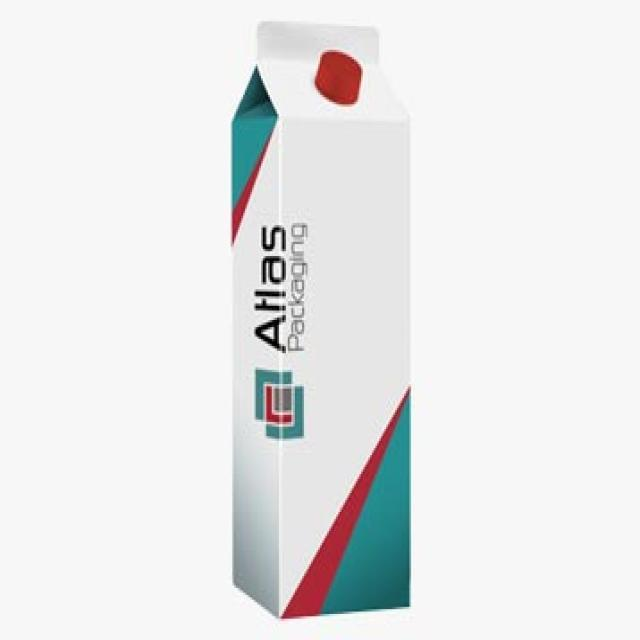Carton: (214, 8, 431, 640)
